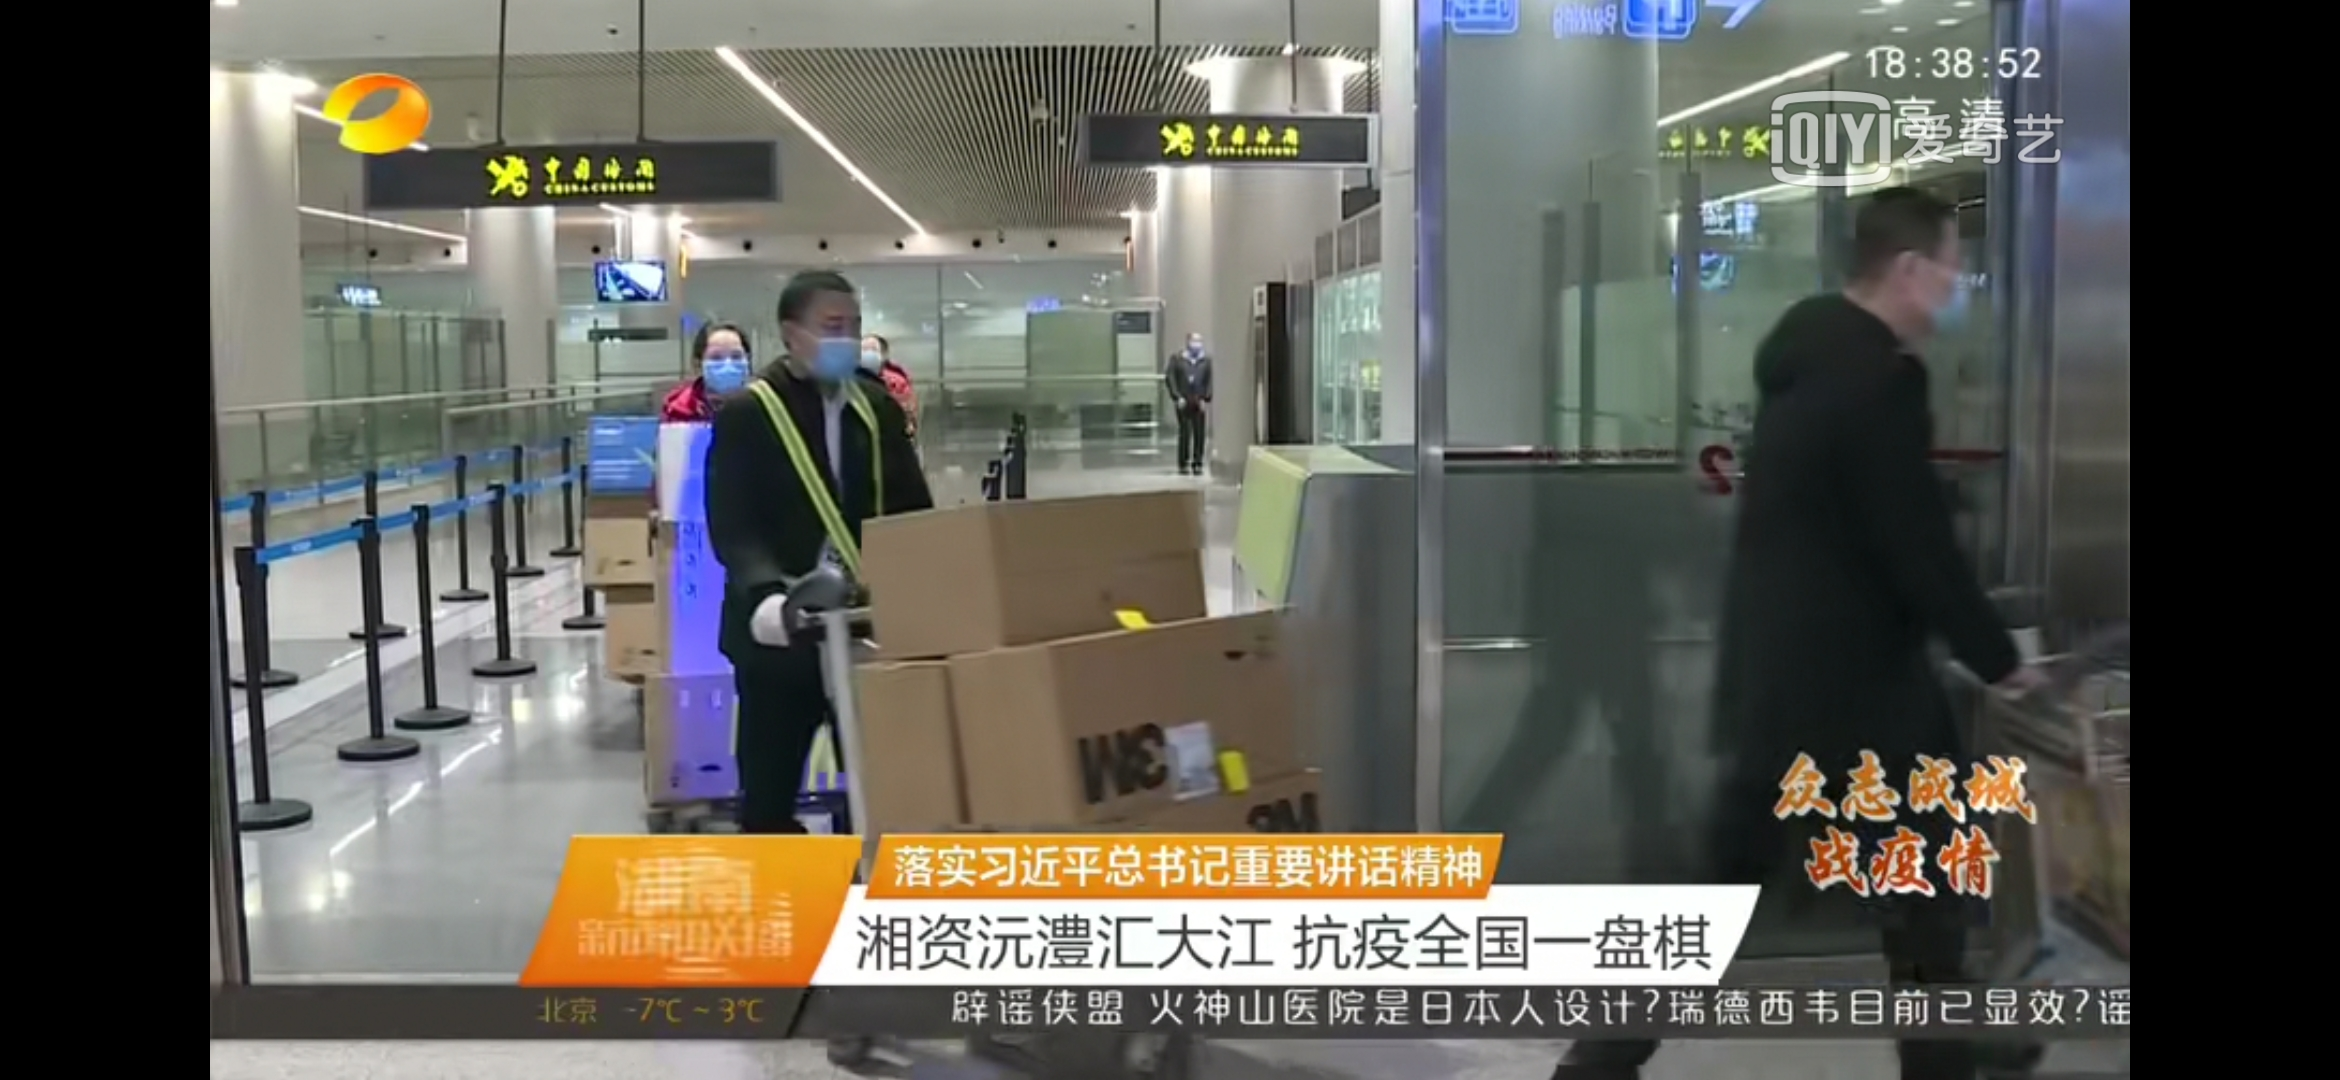correctlyWear: (1885, 242, 1971, 342), (778, 306, 866, 388), (698, 342, 749, 395), (864, 342, 889, 371), (1189, 336, 1201, 355)
